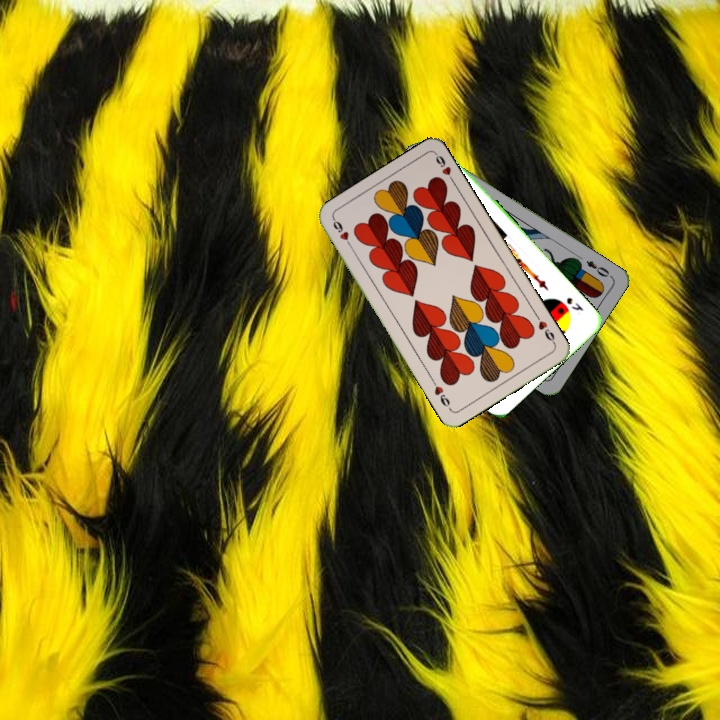EO: (582, 256, 615, 280)
H9: (329, 215, 356, 251), (532, 311, 558, 347)
SK: (562, 293, 586, 314)
